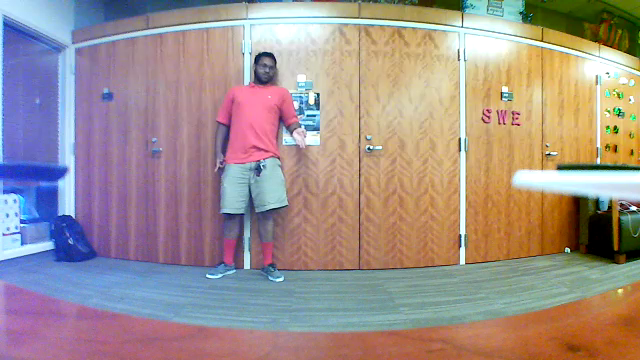land: (291, 128, 311, 152)
